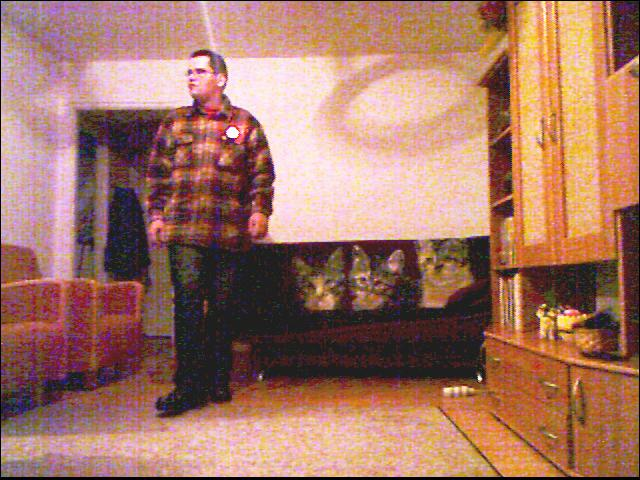walking: (138, 46, 282, 423)
